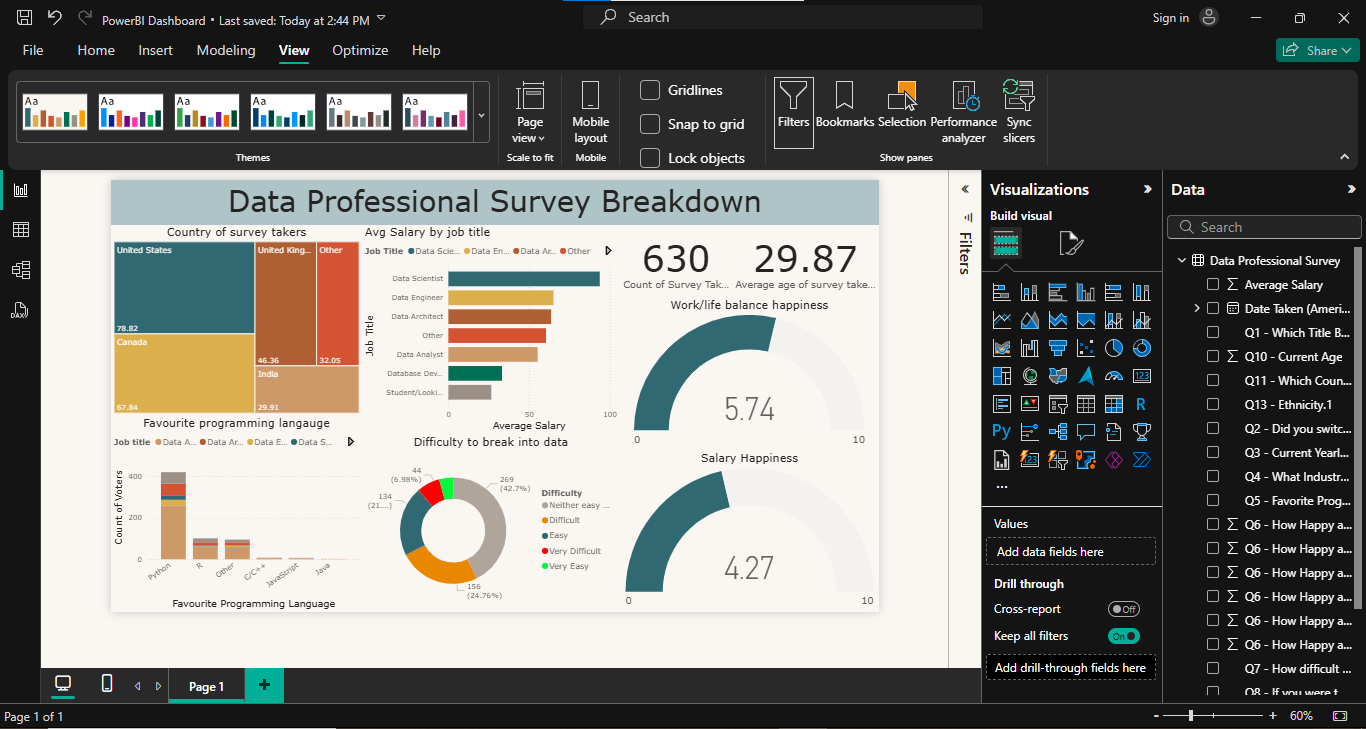

What the dashboard file says about the page in this screenshot:
{"tool":"powerbi","page":{"name":"Page 1","canvas":[1280,720],"ordinal":0},"visuals":[{"type":"textbox","box":[0,0,1279.8,74.9],"z":0},{"type":"card","fields":{"Values":["CountNonNull(Data Professional Survey.Unique ID)"]},"box":[848.6,74.3,187.1,122.9],"z":1000},{"type":"card","fields":{"Values":["Avg(Data Professional Survey.Q10 - Current Age)"]},"box":[1035.7,74.3,244.3,122.9],"z":2000},{"type":"barChart","title":"Avg Salary by job title","fields":{"Category":["Data Professional Survey.Q1 - Which Title Best Fits your Current Role?.1"],"Y":["Avg(Data Professional Survey.Average Salary)"],"Series":["Data Professional Survey.Q1 - Which Title Best Fits your Current Role?.1"]},"box":[418.6,75.7,430,348.6],"z":3000},{"type":"columnChart","title":"Favourite programming langauge","fields":{"Category":["Data Professional Survey.Q5 - Favorite Programming Language.1"],"Y":["CountNonNull(Data Professional Survey.Unique ID)"],"Series":["Data Professional Survey.Q1 - Which Title Best Fits your Current Role?.1"]},"box":[0,392.9,418.6,327.1],"z":4000},{"type":"treemap","title":"Country of survey takers","fields":{"Group":["Data Professional Survey.Q11 - Which Country do you live in?.1"],"Values":["Avg(Data Professional Survey.Average Salary)"]},"box":[0,74.3,418.6,318.6],"z":4001},{"type":"gauge","title":"Work/life balance happiness","fields":{"MaxValue":["Max(Data Professional Survey.Q6 - How Happy are you in your Current Position with the following? (Work/Life Balance))"],"MinValue":["Min(Data Professional Survey.Q6 - How Happy are you in your Current Position with the following? (Work/Life Balance))"],"Y":["Avg(Data Professional Survey.Q6 - How Happy are you in your Current Position with the following? (Work/Life Balance))"]},"box":[848.6,197.1,431.4,254.3],"z":4002},{"type":"gauge","title":"Salary Happiness","fields":{"Y":["Avg(Data Professional Survey.Q6 - How Happy are you in your Current Position with the following? (Salary))"],"MinValue":["Min(Data Professional Survey.Q6 - How Happy are you in your Current Position with the following? (Salary))"],"MaxValue":["Max(Data Professional Survey.Q6 - How Happy are you in your Current Position with the following? (Salary))"]},"box":[848.6,451.4,431.4,268.6],"z":4003},{"type":"donutChart","title":"Difficulty to break into data","fields":{"Category":["Data Professional Survey.Q7 - How difficult was it for you to break into Data?"],"Y":["CountNonNull(Data Professional Survey.Q7 - How difficult was it for you to break into Data?)"]},"box":[418.6,424.3,430,295.7],"z":4004}]}

Visuals, with their boxes on the page's 1280x720 design canvas (x1, y1, x2, y2). These are canvas units, not pixel positions in the 1366x729 screenshot, which may show the page scaled, cropped or inside an application window:
textbox: Rect(0, 0, 1280, 75)
card - CountNonNull(Data Professional Survey.Unique ID): Rect(849, 74, 1036, 197)
card - Avg(Data Professional Survey.Q10 - Current Age): Rect(1036, 74, 1280, 197)
"Avg Salary by job title" barChart: Rect(419, 76, 849, 424)
"Favourite programming langauge" columnChart: Rect(0, 393, 419, 720)
"Country of survey takers" treemap: Rect(0, 74, 419, 393)
"Work/life balance happiness" gauge: Rect(849, 197, 1280, 451)
"Salary Happiness" gauge: Rect(849, 451, 1280, 720)
"Difficulty to break into data" donutChart: Rect(419, 424, 849, 720)
